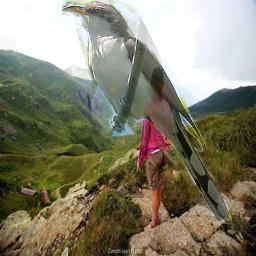Cuckoo: (62, 0, 232, 224)
